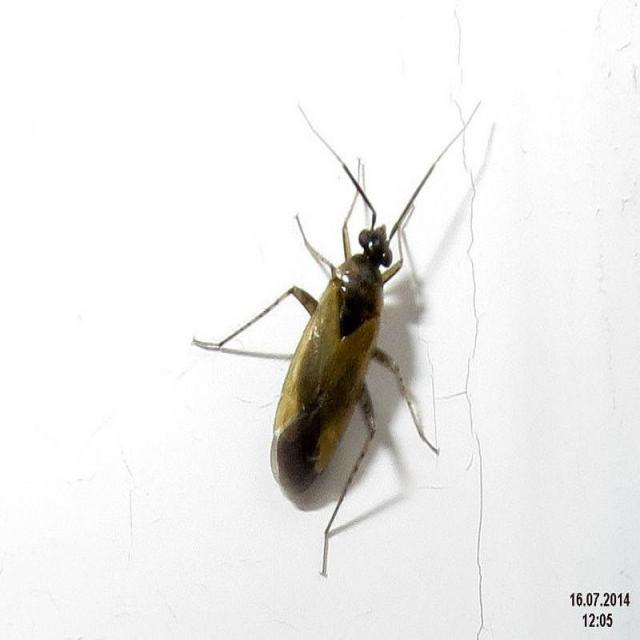Miridae-Adult-: (216, 94, 493, 564)
